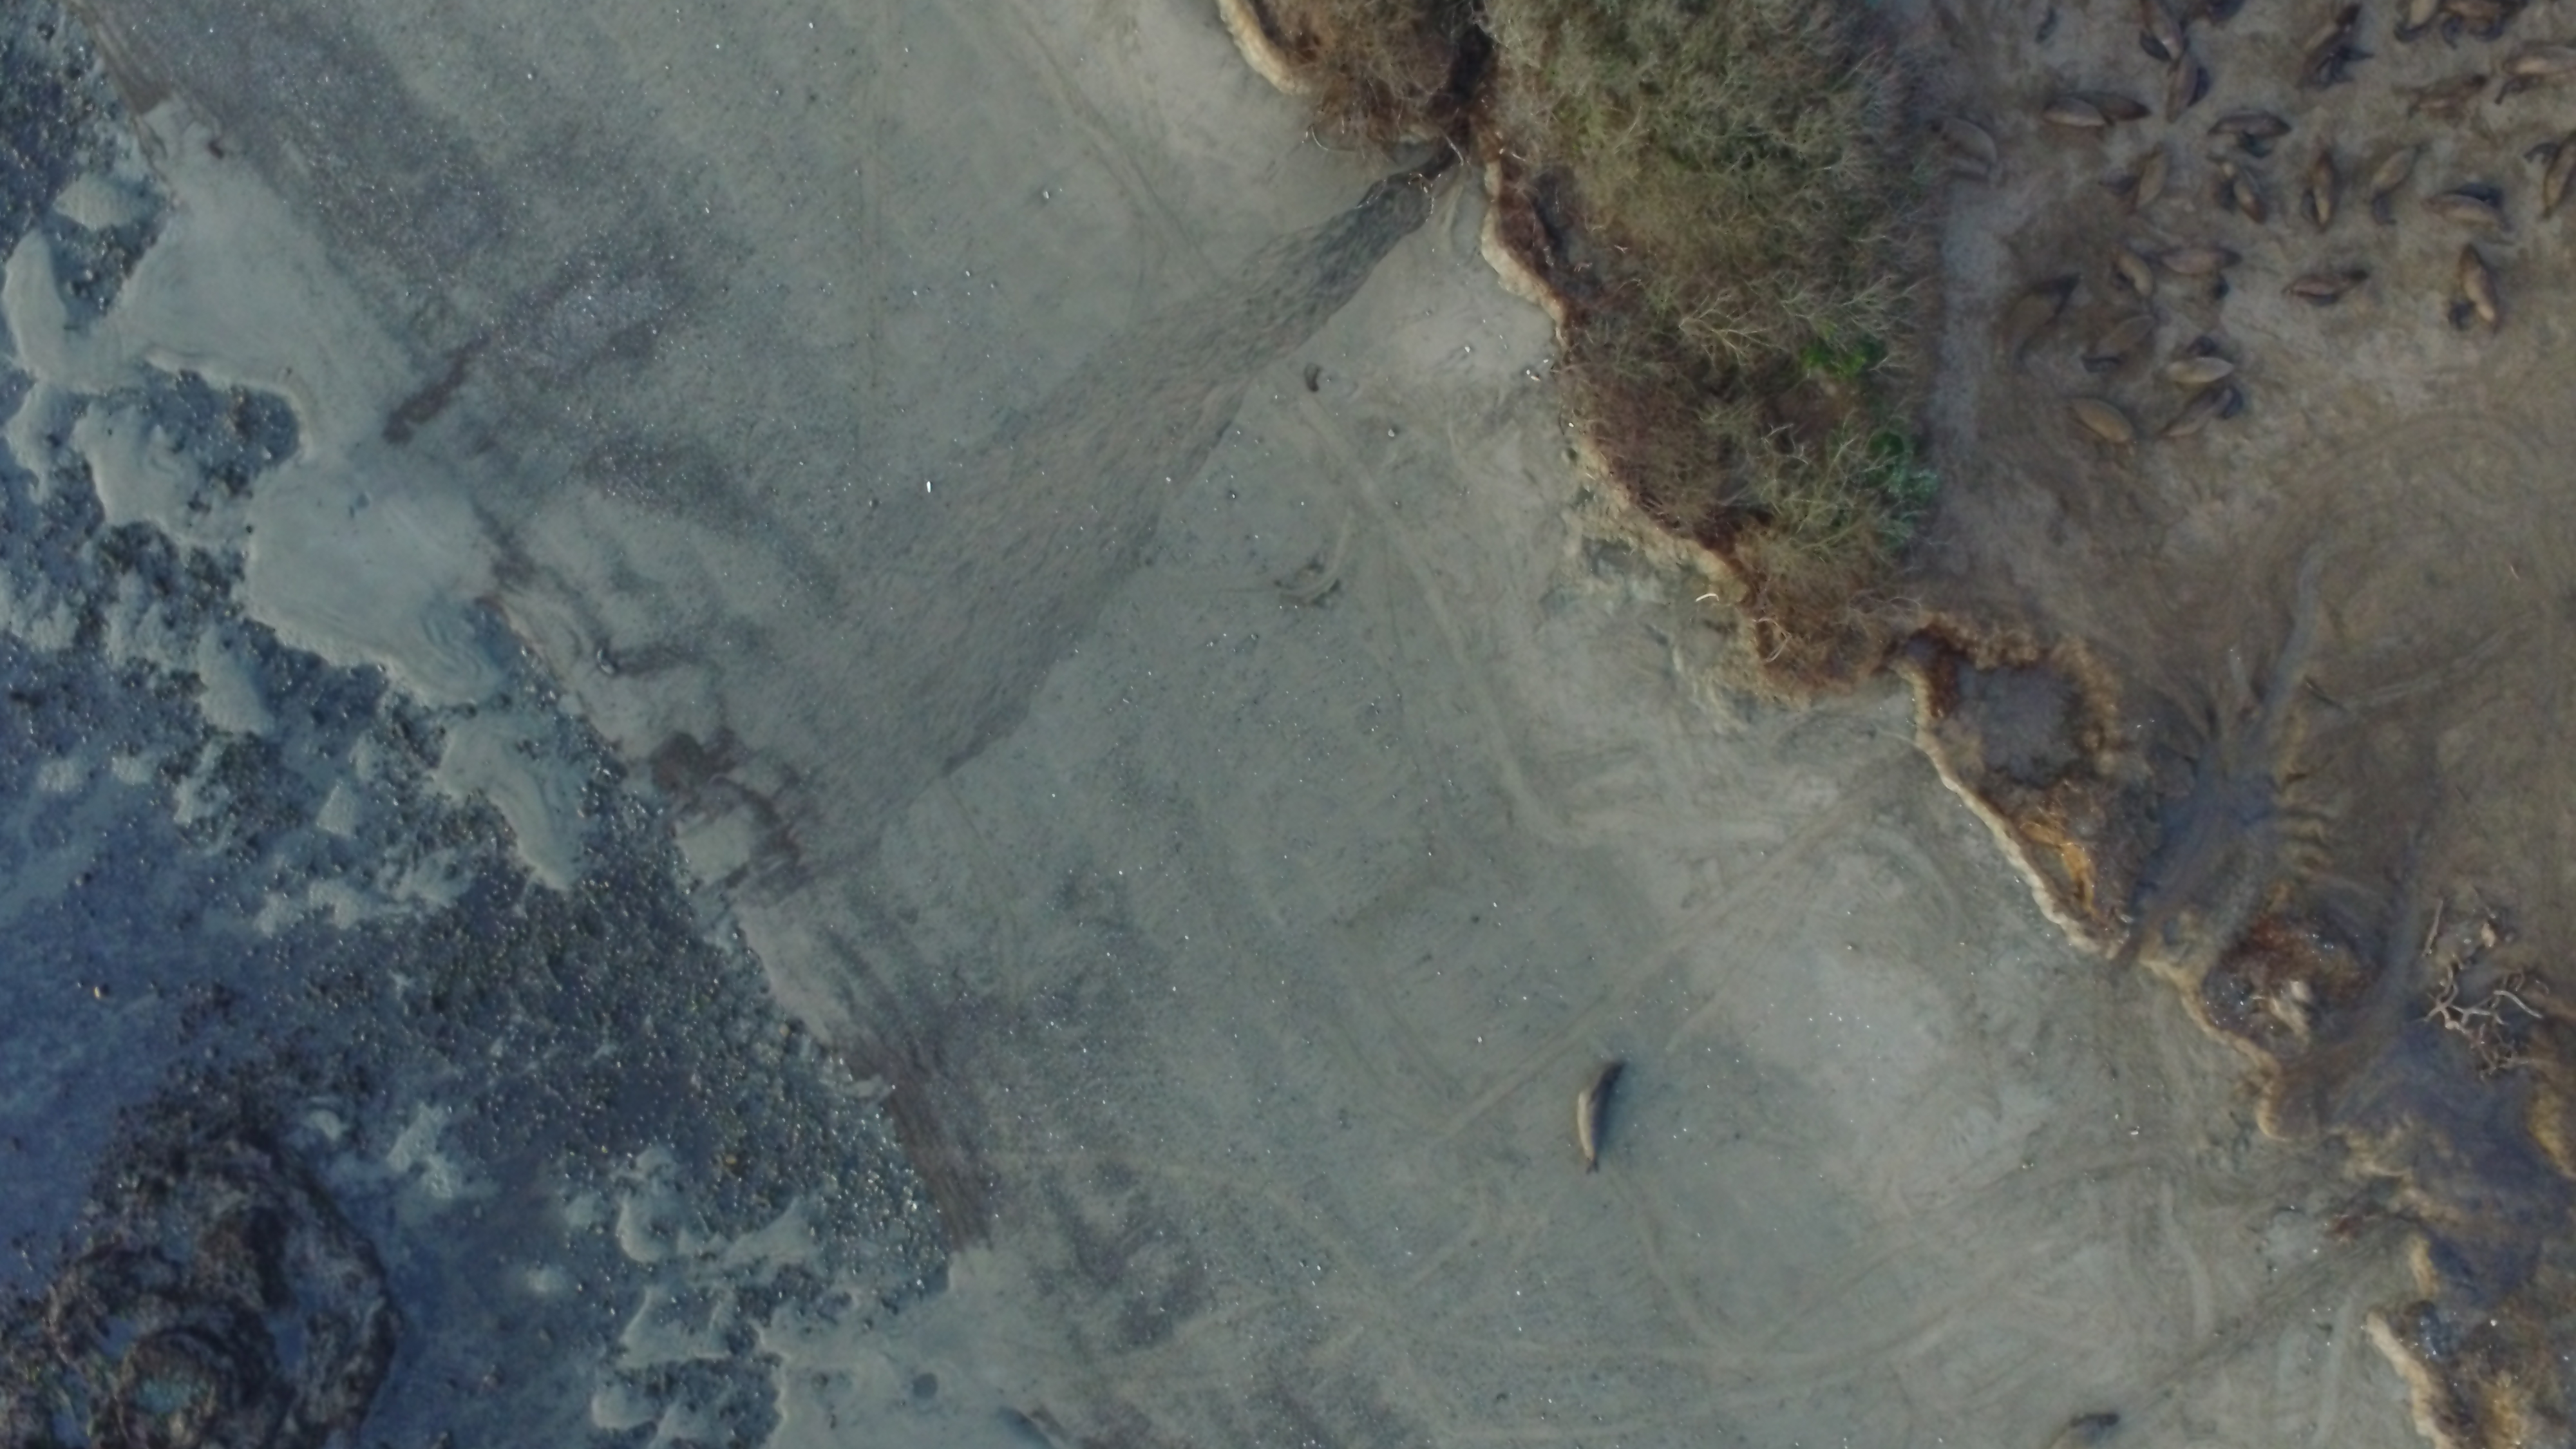adult male: (2005, 272, 2084, 373), (1571, 1060, 1629, 1182), (2031, 1408, 2141, 1442)
male juvenile / female juvenile / adult female: (1932, 110, 2005, 182), (2066, 396, 2143, 458), (2459, 241, 2502, 336), (2401, 69, 2484, 115), (2229, 156, 2281, 228), (2088, 313, 2164, 357), (2031, 97, 2112, 136), (2311, 5, 2351, 81), (2070, 88, 2157, 124), (2424, 195, 2512, 228), (2367, 140, 2424, 191), (2141, 2, 2187, 62), (2158, 50, 2199, 113), (2164, 391, 2222, 435), (2548, 115, 2571, 221), (2120, 241, 2162, 294), (2314, 152, 2342, 225), (2212, 113, 2295, 136), (2443, 0, 2539, 19), (2139, 150, 2169, 211), (2158, 359, 2233, 382), (2502, 51, 2576, 73), (2160, 249, 2238, 269), (2288, 278, 2367, 294), (2403, 0, 2438, 28)
pup: (2488, 74, 2551, 103), (2445, 299, 2479, 334), (2095, 172, 2139, 198), (2134, 32, 2167, 65), (2456, 184, 2507, 205), (2042, 9, 2066, 50), (2208, 177, 2235, 212), (2236, 133, 2273, 157), (2472, 16, 2505, 41), (2392, 27, 2431, 44), (2298, 191, 2316, 228), (2197, 67, 2213, 108), (2374, 196, 2399, 221), (2187, 336, 2219, 354), (2523, 143, 2558, 159), (2344, 46, 2380, 62), (2302, 295, 2342, 308), (2229, 387, 2243, 418), (2088, 359, 2127, 370), (2114, 274, 2137, 292), (2337, 62, 2351, 88), (2449, 14, 2459, 50), (2321, 62, 2332, 88)
